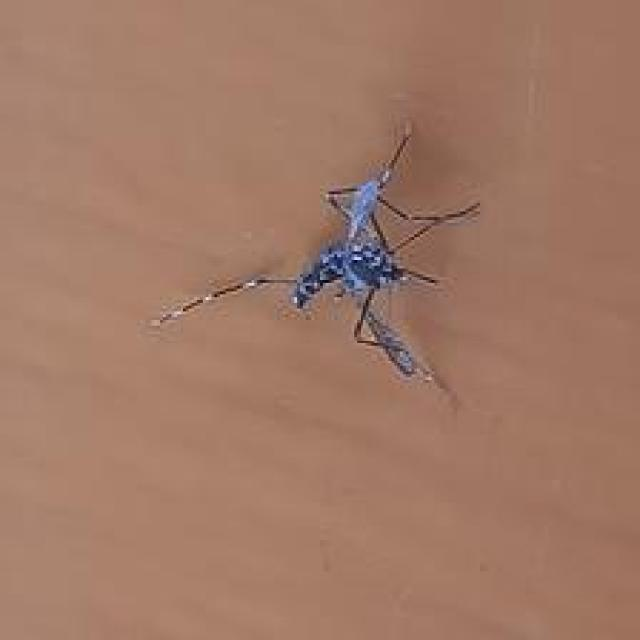Aedes albopictus: (150, 117, 481, 409)
